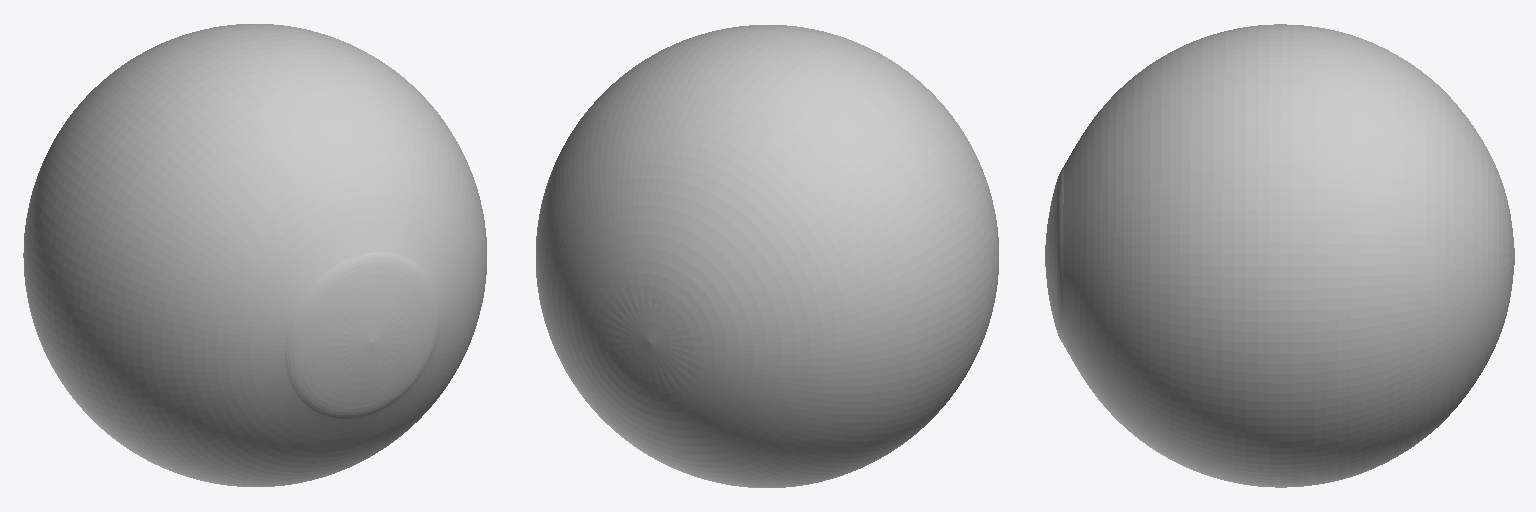
Rendered from eyeball.obj.
3 views of the same model, side by side, from view 1: azimuth 30°, elevation 25°; view 2: azimuth 150°, elevation 25°; view 3: azimuth 270°, elevation 25° (orthographic).
Visible parts, largest first — view 1: eyeball_1_eye_1; view 2: eyeball_1_eye_1; view 3: eyeball_1_eye_1.
Part boxes in pixels (x1,y1,x2,y2): eyeball_1_eye_1: (23,24,486,486); eyeball_1_eye_1: (536,25,998,487); eyeball_1_eye_1: (1045,24,1514,487).
Bounding box in the file's own units: 3.86 × 3.86 × 3.92.